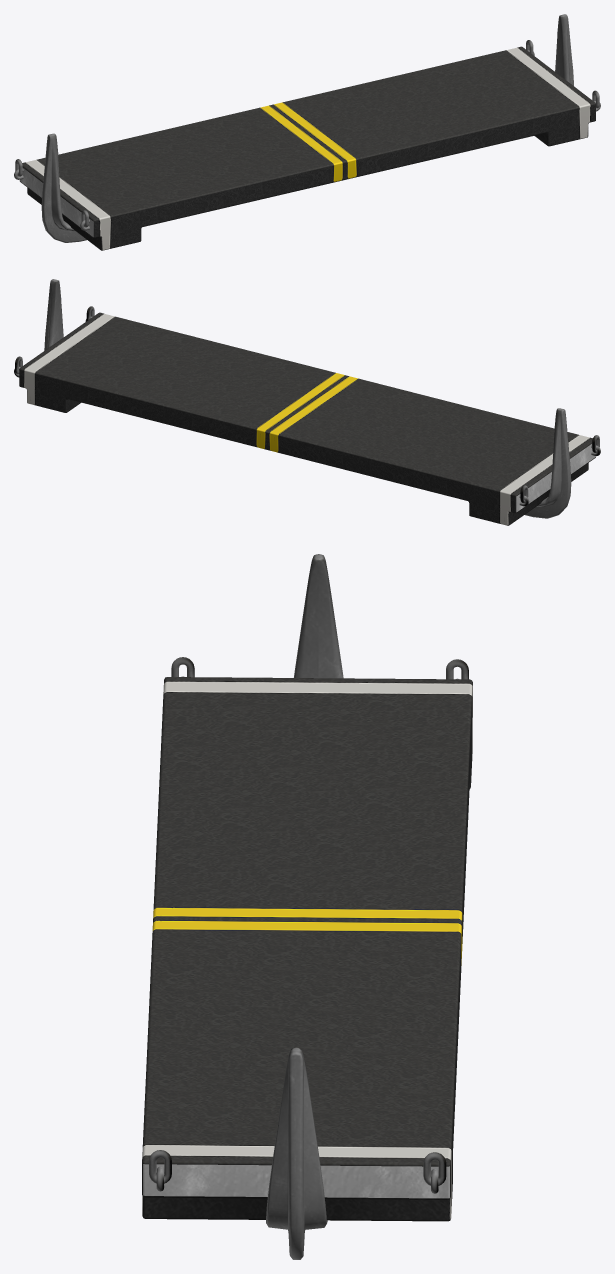
Rendered from Bridge_Board.obj.
3 renders of one model, top to bottom at view 1: azimuth 30°, elevation 25°; view 2: azimuth 150°, elevation 25°; view 3: azimuth 270°, elevation 25°, orthographic. The views are drawn at different scales.
Visible parts, largest first — view 1: Singal22; view 2: Singal22; view 3: Singal22.
Boxes of the visible parts, left/top/right/bottom form: Singal22: left=14, top=14, right=600, bottom=250; Singal22: left=14, top=279, right=600, bottom=525; Singal22: left=142, top=554, right=472, bottom=1259.
Bounding box in the file's own units: 3.62 × 0.7454 × 0.9893.
1 material, 1 textured.
